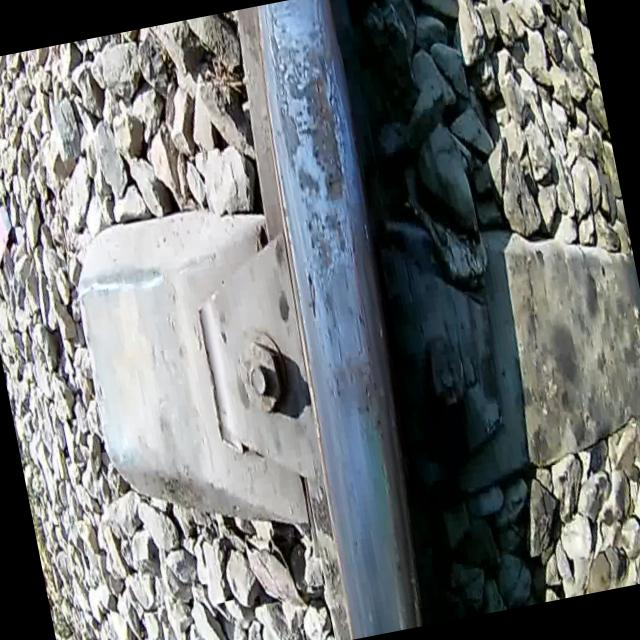Cracks: (302, 0, 356, 180)
Squats: (246, 0, 409, 455)
